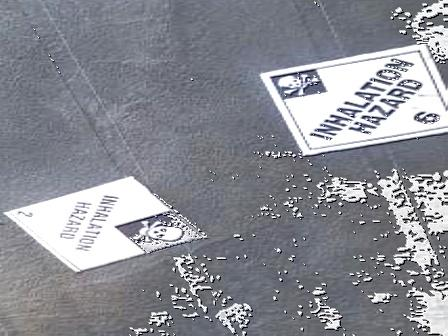poison: (259, 42, 448, 156), (4, 175, 205, 271)
